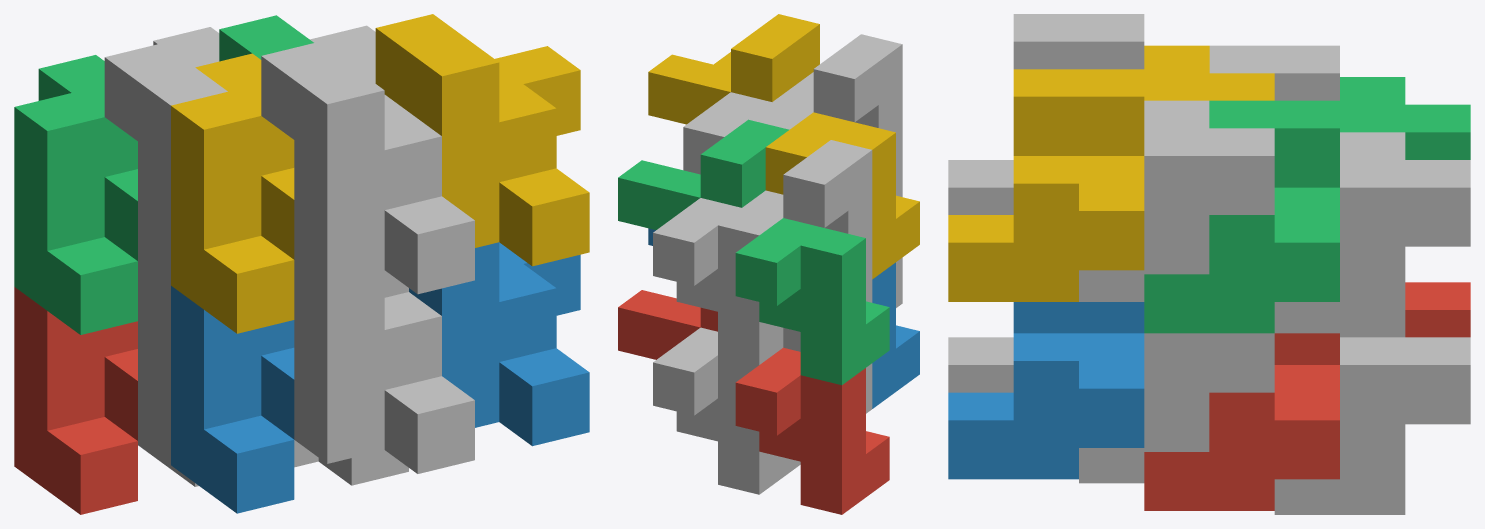
Rendered from tiling.obj.
3 views of the same model, side by side, from view 1: azimuth 30°, elevation 25°; view 2: azimuth 150°, elevation 25°; view 3: azimuth 270°, elevation 25° (orthographic). The views are drawn at different scales.
Parts seen in each view (by area): view 1: copy_2_domain_4, copy_2_domain_8, copy_1_domain_3, copy_2_domain_2, copy_1_domain_4, copy_2_domain_6, copy_1_domain_1, copy_1_domain_2, copy_2_domain_3, copy_2_domain_1, copy_2_domain_7, copy_1_domain_8 (+2 smaller); view 2: copy_1_domain_3, copy_1_domain_1, copy_1_domain_7, copy_1_domain_5, copy_2_domain_8, copy_2_domain_7, copy_1_domain_4, copy_2_domain_4, copy_2_domain_3, copy_2_domain_5, copy_1_domain_8, copy_1_domain_2 (+2 smaller); view 3: copy_2_domain_8, copy_2_domain_6, copy_2_domain_7, copy_1_domain_7, copy_2_domain_5, copy_1_domain_5, copy_1_domain_8, copy_1_domain_6, copy_2_domain_4, copy_1_domain_3, copy_2_domain_3, copy_1_domain_4 (+2 smaller).
Boxes of the visible parts, box(x1,y1,x2,y2) form: copy_2_domain_4: box(261, 42, 474, 294); copy_2_domain_8: box(375, 14, 589, 266); copy_1_domain_3: box(14, 55, 137, 334); copy_2_domain_2: box(294, 260, 474, 473); copy_1_domain_4: box(171, 53, 294, 333); copy_2_domain_6: box(409, 242, 589, 446); copy_1_domain_1: box(14, 287, 137, 514); copy_1_domain_2: box(171, 286, 294, 513); copy_2_domain_3: box(104, 43, 227, 284); copy_2_domain_1: box(138, 261, 318, 467); copy_2_domain_7: box(219, 15, 313, 61); copy_1_domain_8: box(310, 25, 408, 297); copy_1_domain_3: box(735, 218, 889, 385); copy_1_domain_1: box(735, 347, 889, 514); copy_1_domain_7: box(653, 198, 783, 364); copy_1_domain_5: box(653, 327, 800, 494); copy_2_domain_8: box(648, 14, 819, 124); copy_2_domain_7: box(618, 119, 789, 229); copy_1_domain_4: box(765, 112, 919, 279); copy_2_domain_4: box(772, 34, 902, 178); copy_2_domain_3: box(742, 140, 872, 283); copy_2_domain_5: box(618, 290, 717, 359); copy_1_domain_8: box(683, 92, 812, 174); copy_1_domain_2: box(872, 262, 919, 408); copy_2_domain_8: box(948, 69, 1144, 301); copy_2_domain_6: box(948, 302, 1144, 479); copy_2_domain_7: box(1144, 100, 1339, 333); copy_1_domain_7: box(1274, 132, 1470, 337); copy_2_domain_5: box(1144, 333, 1339, 510); copy_1_domain_5: box(1274, 337, 1470, 514); copy_1_domain_8: box(1079, 100, 1274, 301); copy_1_domain_6: box(1079, 333, 1274, 483); copy_2_domain_4: box(948, 14, 1144, 214); copy_1_domain_3: box(1340, 77, 1470, 159); copy_2_domain_3: box(1209, 45, 1339, 100); copy_1_domain_4: box(1144, 45, 1274, 100).
Size of the model in its own units: 7 by 8 by 8.
